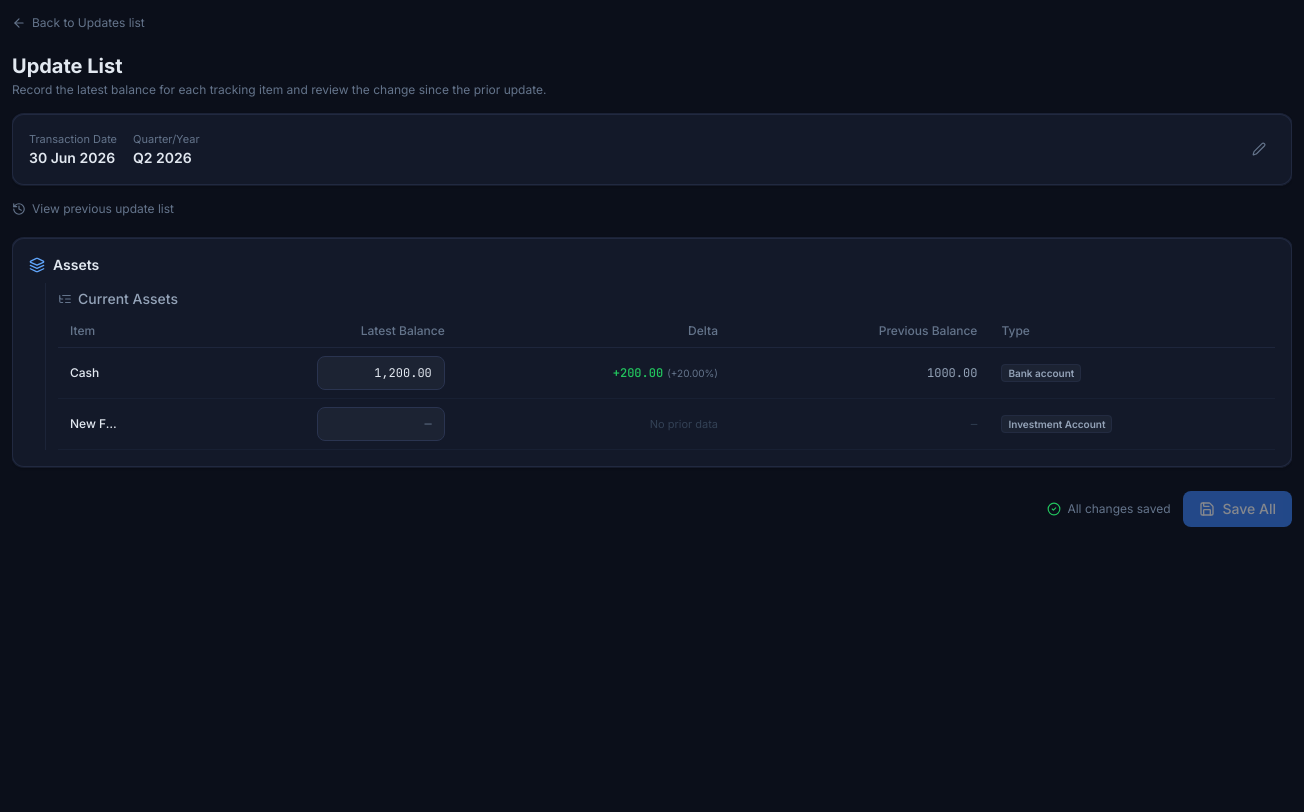
UpdateTrackingListDetailPage — balance editing and save › surfaces the backend 400 error via toast/inline message on save failure
This screenshot has width=1304, height=812.
Replace the text in the field named "Latest balance for Cash" with "1300" at (381,372), box left=317, top=356, right=445, bottom=390
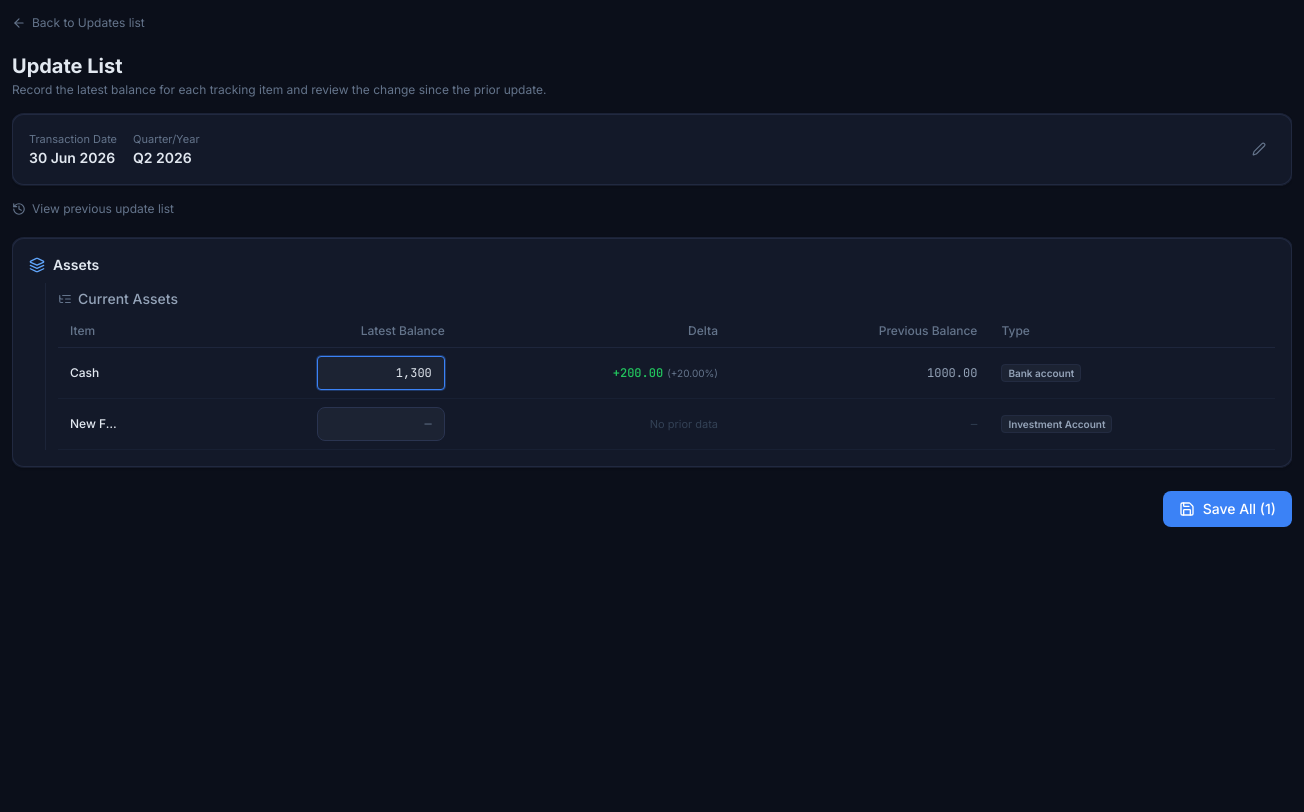
Click the button "Save All (1)" at (1227,508), box left=1163, top=490, right=1292, bottom=526
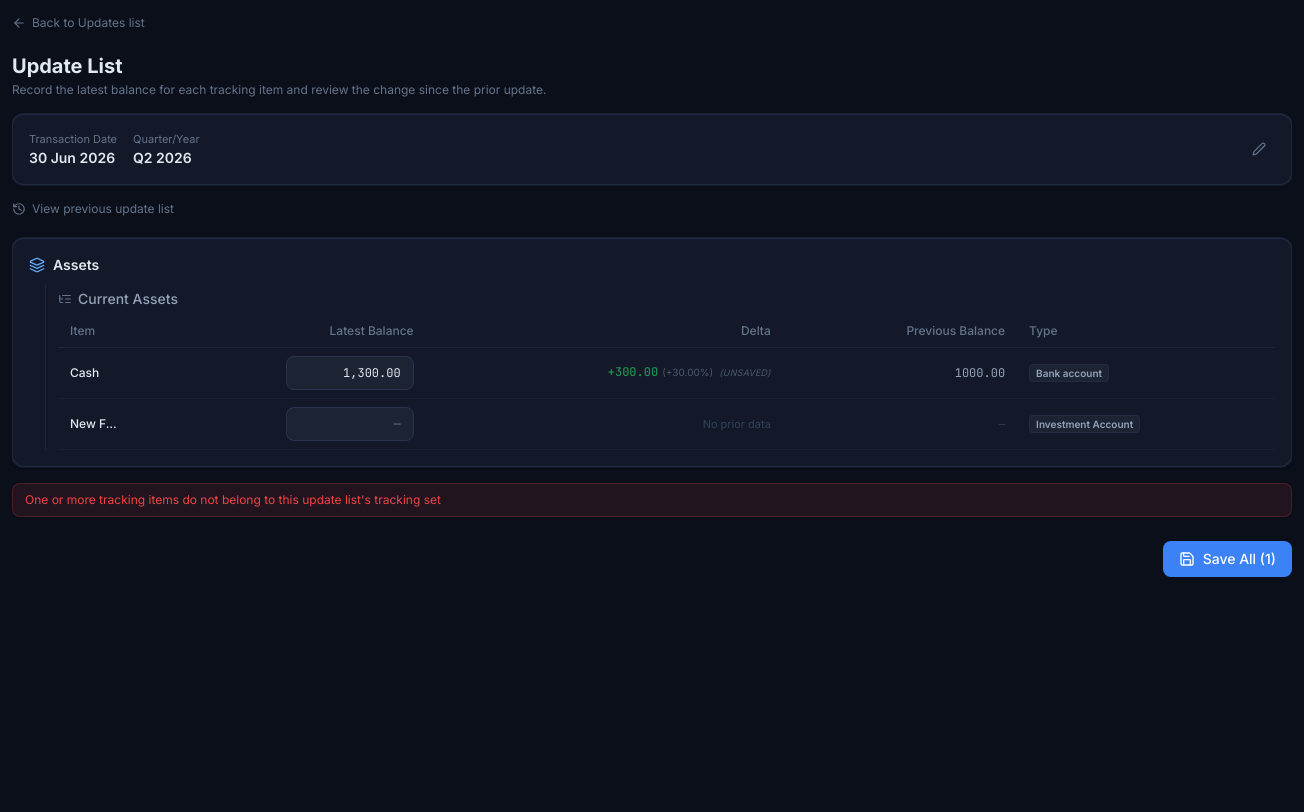
Check: the text "do not belong to this update list" is shown, box left=25, top=492, right=441, bottom=506
